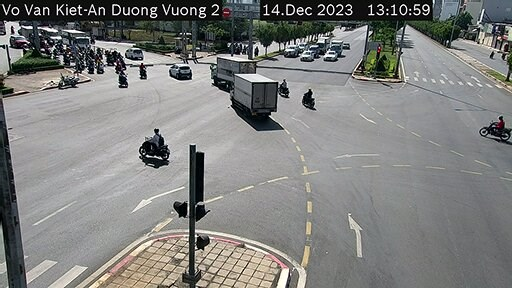car: (171, 62, 190, 85), (126, 48, 149, 62), (283, 43, 300, 57), (300, 48, 316, 60), (323, 48, 335, 64)
motorbike: (142, 127, 169, 159), (486, 112, 510, 148), (279, 75, 294, 98), (132, 64, 151, 82), (115, 72, 132, 87), (301, 88, 315, 106)
truck: (228, 69, 280, 115), (203, 52, 261, 88), (66, 30, 95, 53)
